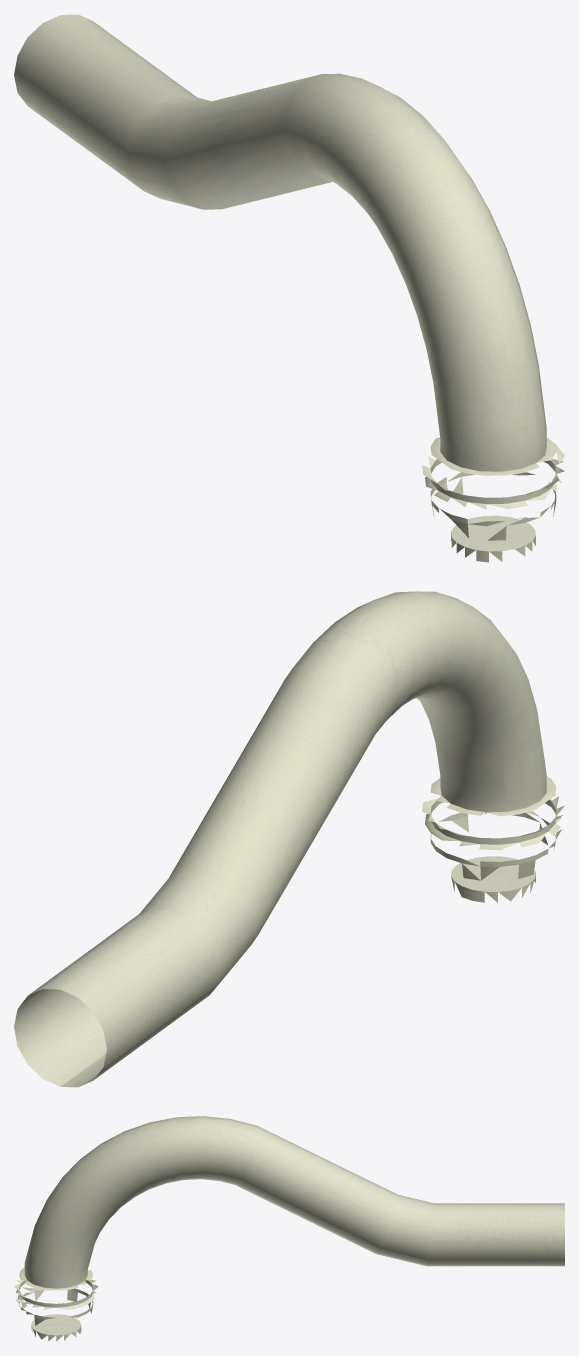
3 views of the same model, one above another, from view 1: azimuth 30°, elevation 25°; view 2: azimuth 150°, elevation 25°; view 3: azimuth 270°, elevation 25° (orthographic). The views are drawn at different scales.
Size of the model in its own units: 0.155 by 0.45 by 1.06.
